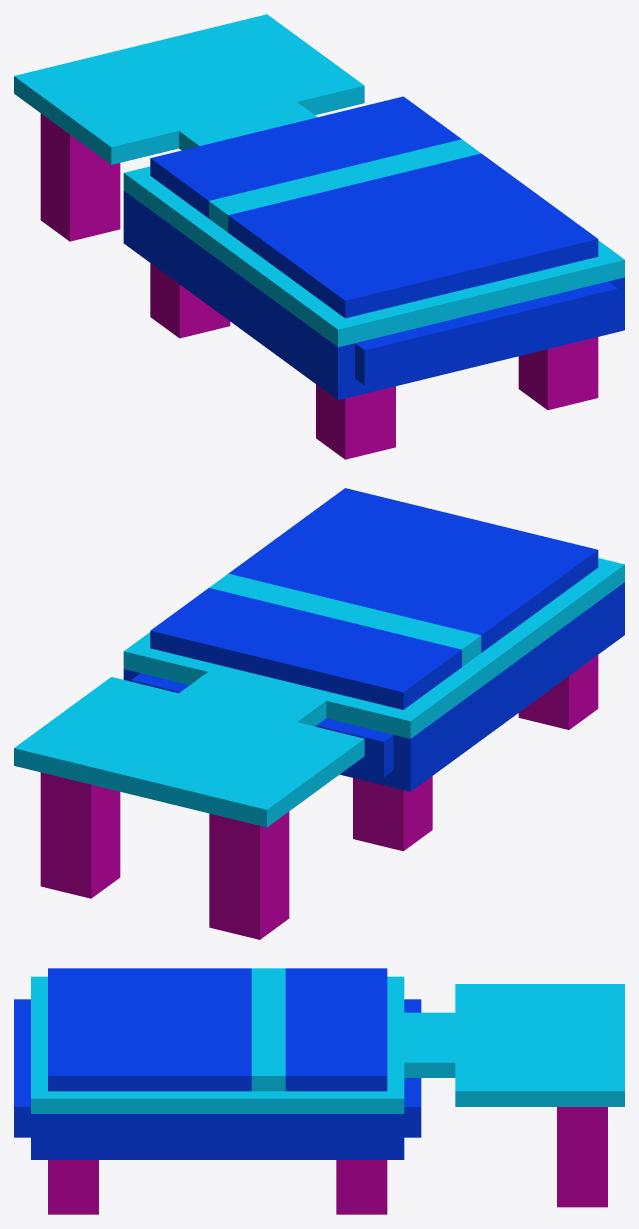
The model's file is cama.obj.
3 views of the same model, one above another, from view 1: azimuth 30°, elevation 25°; view 2: azimuth 150°, elevation 25°; view 3: azimuth 270°, elevation 25° (orthographic). The views are drawn at different scales.
Bounding box in the file's own units: 1.7 × 0.9 × 3.6.
Materials: 1 (1 with a texture image).
